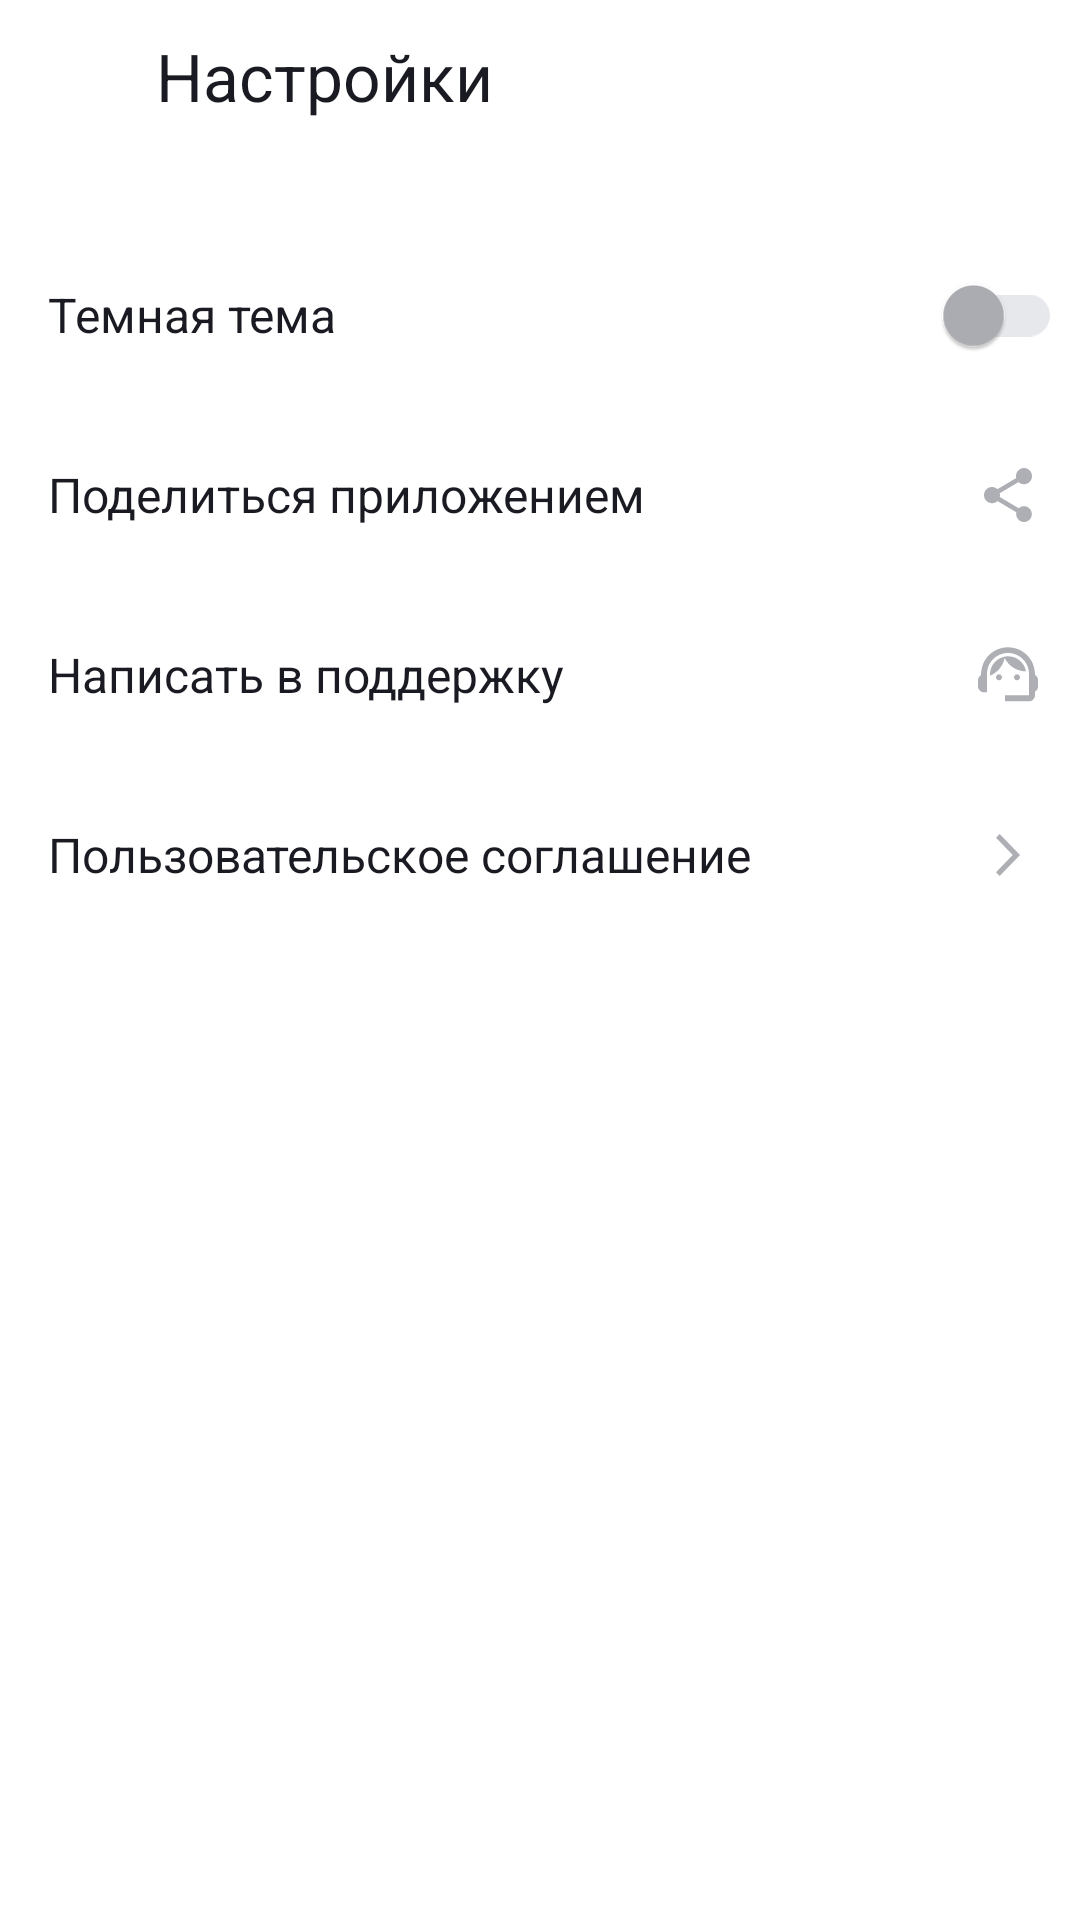

Icon bounding boxes for this 1080*1920 phone screenshot, format (x1, y1, x2, y2):
arrow forward: (996, 834, 1020, 876)
share: (984, 468, 1032, 522)
support: (978, 647, 1038, 701)
